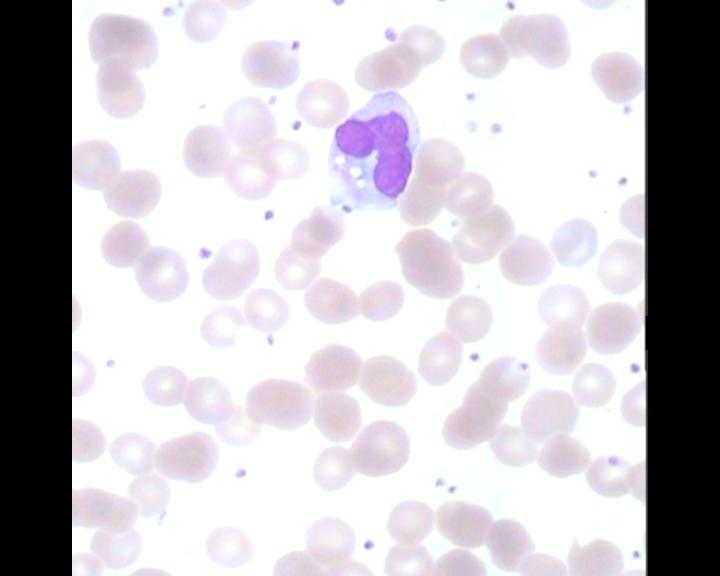mono: (324, 83, 422, 217)
